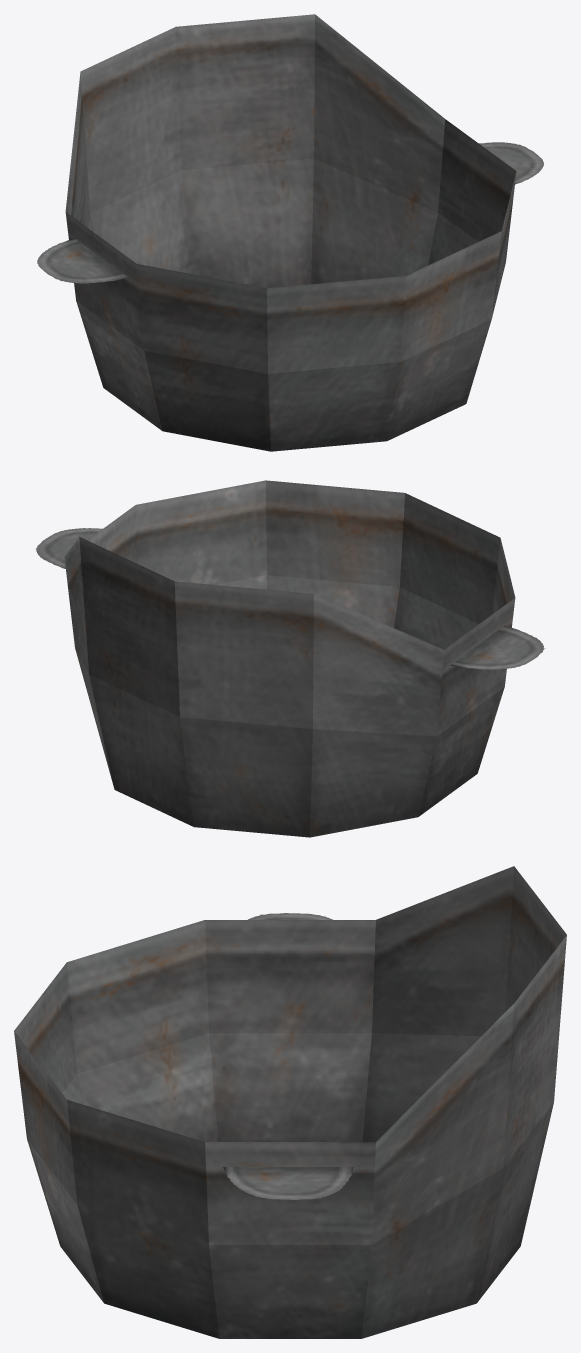
The model's file is Bathtub.fbx.
3 renders of one model, top to bottom at view 1: azimuth 30°, elevation 25°; view 2: azimuth 150°, elevation 25°; view 3: azimuth 270°, elevation 25°, orthographic. The views are drawn at different scales.
Parts seen in each view (by area): view 1: Bathtub; view 2: Bathtub; view 3: Bathtub.
Part boxes in pixels (<box>): Bathtub: <box>37,14,543,451</box>; Bathtub: <box>36,480,544,837</box>; Bathtub: <box>14,866,566,1338</box>.
Bounding box in the file's own units: 140 × 70.12 × 113.
